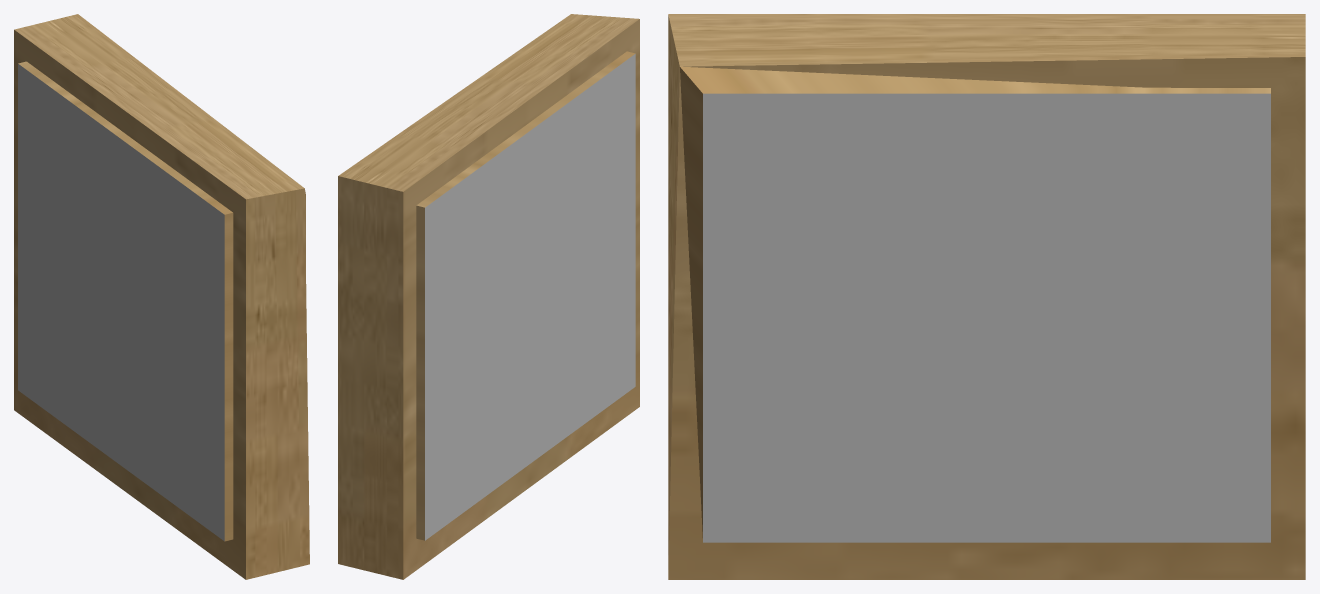
File: Pardal Walking3.fbx
The picture shows the model from 3 angles, left to right: view 1: azimuth 30°, elevation 25°; view 2: azimuth 150°, elevation 25°; view 3: azimuth 270°, elevation 25°; orthographic projection. The views are drawn at different scales.
Visible parts, largest first — view 1: Cube; view 2: Cube; view 3: Cube.
Boxes of the visible parts, x1,y1,x2,y2 form: Cube: (14,14,309,579); Cube: (338,14,639,579); Cube: (668,14,1305,579).
Size of the model in its own units: 0.7102 by 3.18 by 3.51.
